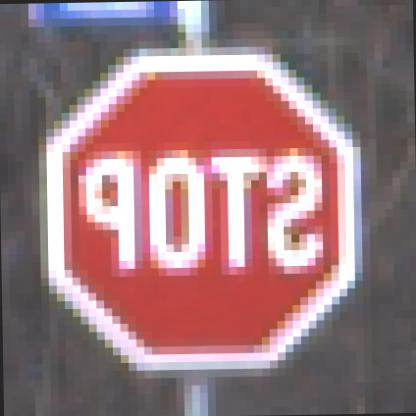stop: (32, 25, 381, 376)
